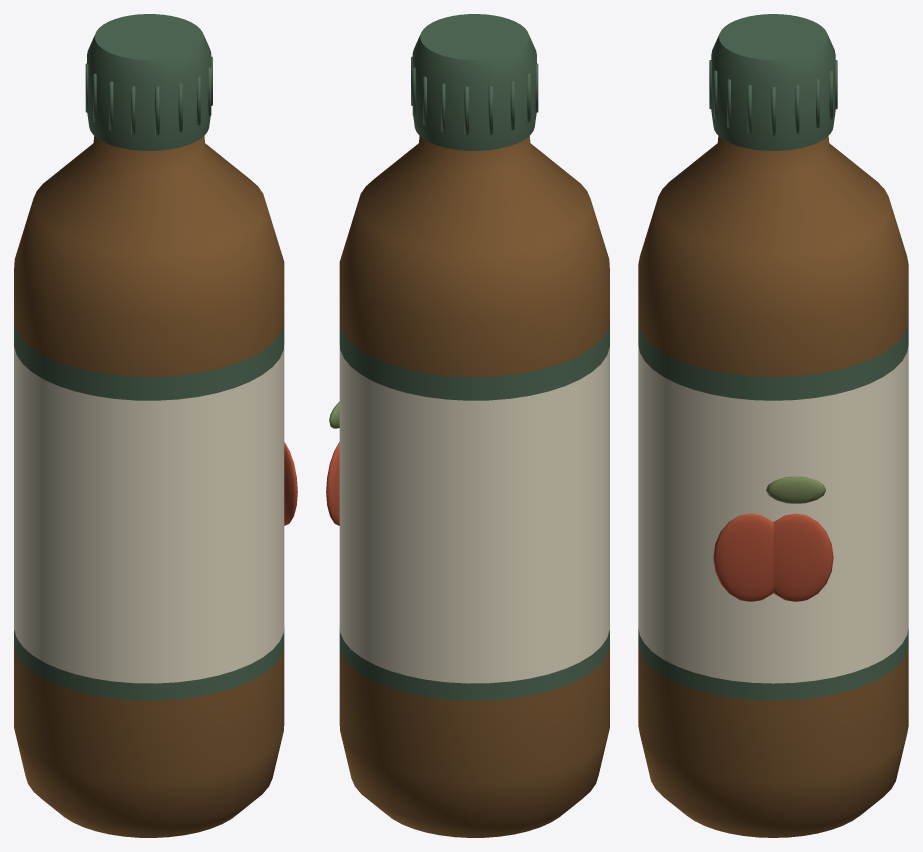
File: vinegar.glb
The picture shows the model from 3 angles, left to right: view 1: azimuth 30°, elevation 25°; view 2: azimuth 150°, elevation 25°; view 3: azimuth 270°, elevation 25°; orthographic projection.
Visible parts, largest first — view 1: Shouldered vinegar bottle.001, Screw cap.001, Apple label left lobe.001; view 2: Shouldered vinegar bottle.001, Screw cap.001, Apple label right lobe.001; view 3: Shouldered vinegar bottle.001, Screw cap.001, Apple label left lobe.001, Apple label right lobe.001, Apple leaf.001.
Boxes of the visible parts, x1,y1,x2,y2 form: Shouldered vinegar bottle.001: (14,136,284,837); Screw cap.001: (87,14,211,150); Apple label left lobe.001: (284,442,297,525); Shouldered vinegar bottle.001: (339,136,609,837); Screw cap.001: (412,14,536,150); Apple label right lobe.001: (326,442,339,525); Shouldered vinegar bottle.001: (638,136,908,837); Screw cap.001: (711,14,835,150); Apple label left lobe.001: (713,513,773,601); Apple label right lobe.001: (773,513,833,601); Apple leaf.001: (766,476,825,503).
Size of the model in its own units: 0.074 by 0.223 by 0.072.
